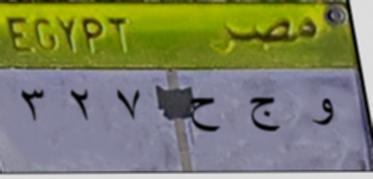2: (68, 88, 96, 125)
3: (22, 87, 46, 124)
7: (112, 86, 144, 124)
7aa: (186, 92, 224, 142)
jeem: (245, 92, 283, 140)
waw: (307, 92, 338, 132)
